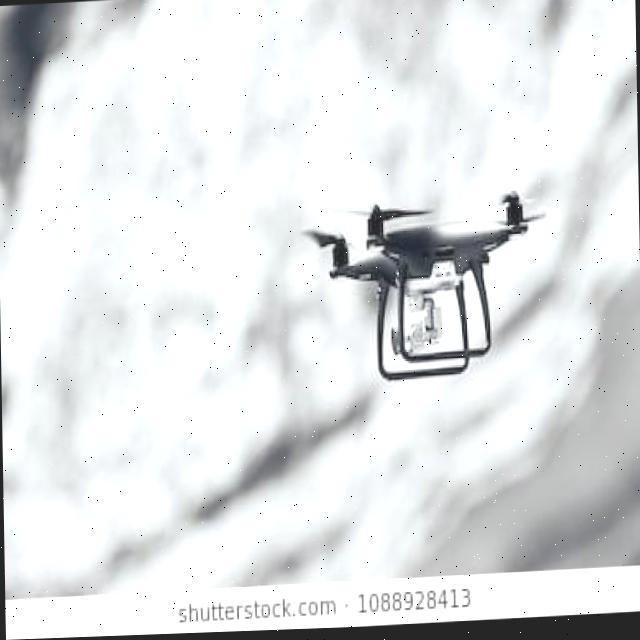drone: (273, 167, 580, 410)
